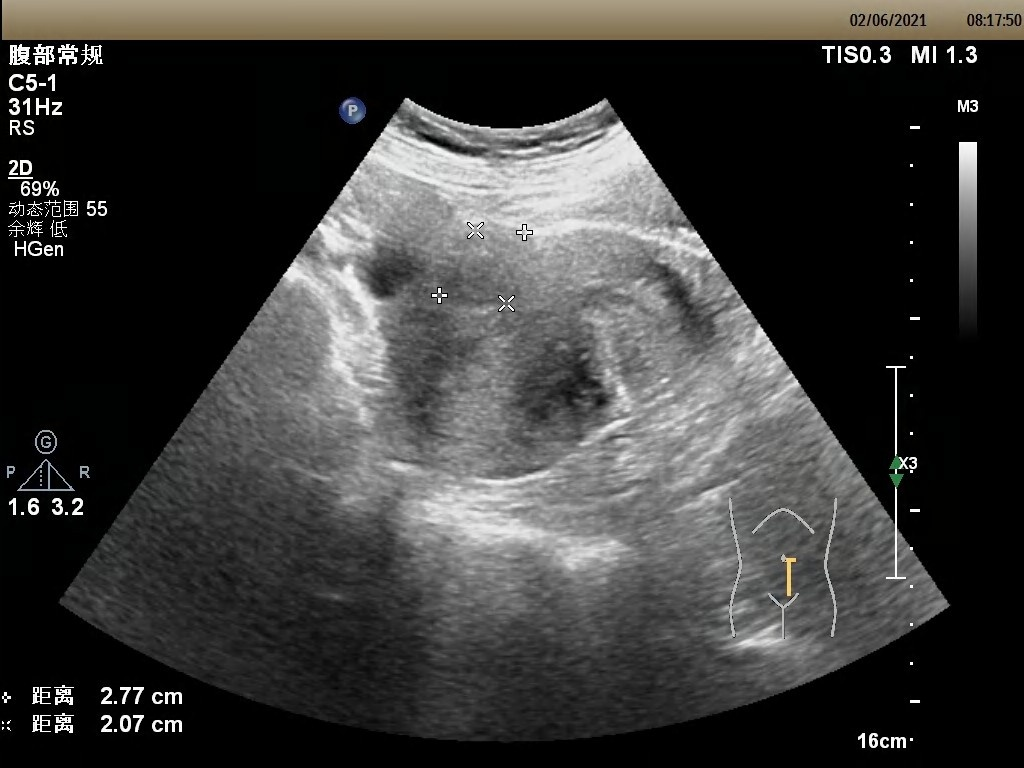肌瘤: (438, 228, 528, 305)
